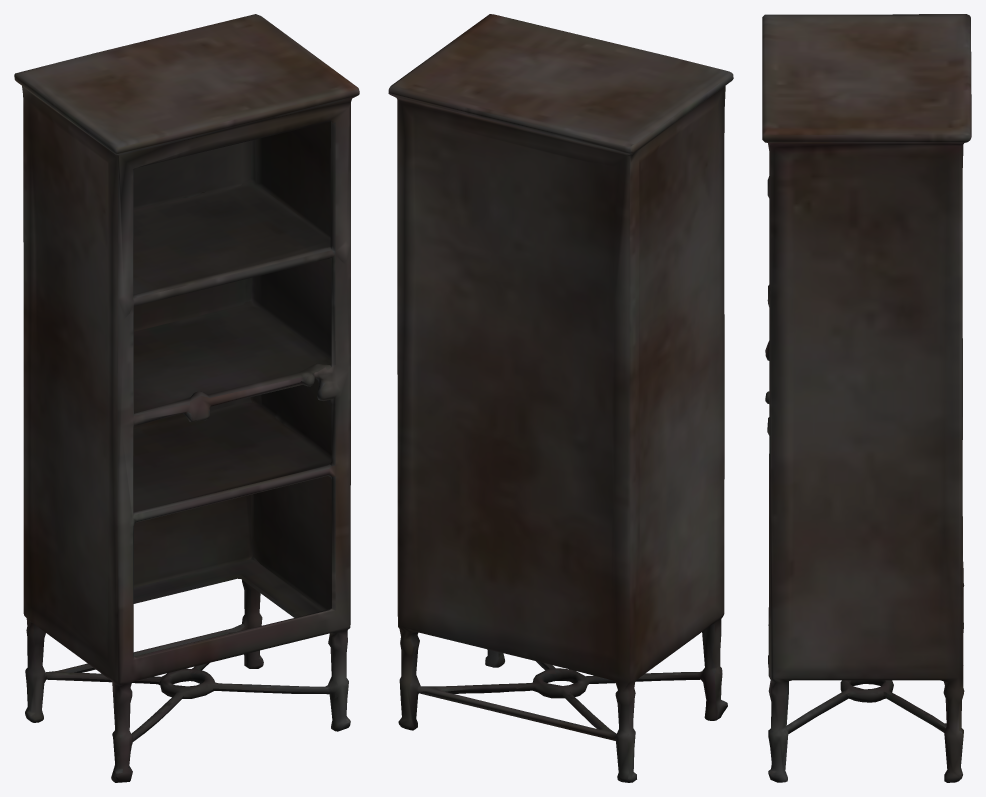
The model's file is plain-iron-medicine-cabinet-v002.glb.
3 views of the same model, side by side, from view 1: azimuth 30°, elevation 25°; view 2: azimuth 150°, elevation 25°; view 3: azimuth 270°, elevation 25° (orthographic).
Parts seen in each view (by area): view 1: plain-iron-medicine-cabinet; view 2: plain-iron-medicine-cabinet; view 3: plain-iron-medicine-cabinet.
Part boxes in pixels (left/top/right/bottom): plain-iron-medicine-cabinet: left=14, top=14, right=359, bottom=782; plain-iron-medicine-cabinet: left=388, top=14, right=733, bottom=782; plain-iron-medicine-cabinet: left=762, top=14, right=971, bottom=782.
Size of the model in its own units: 0.676 by 1.7 by 0.4938.
Materials: 1 (1 with a texture image).
